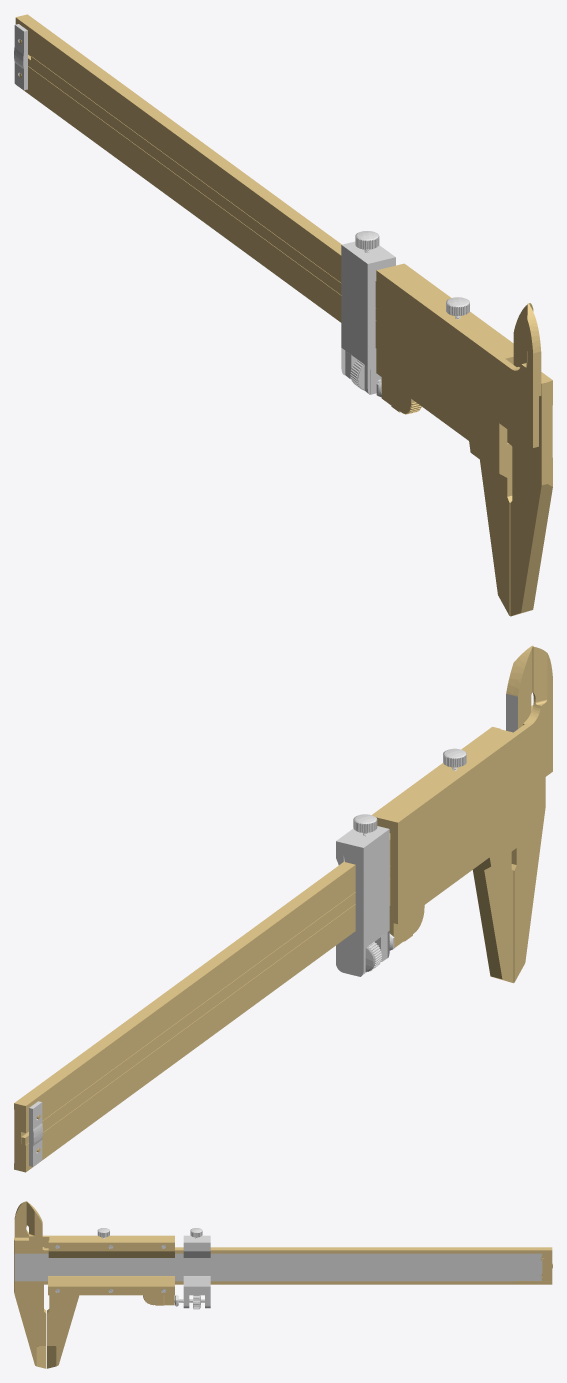
The model's file is vernier calliper2.fbx.
3 renders of one model, top to bottom at view 1: azimuth 30°, elevation 25°; view 2: azimuth 150°, elevation 25°; view 3: azimuth 270°, elevation 25°, orthographic. The views are drawn at different scales.
Visible parts, largest first — view 1: fixed jaw with main scale, movable jaw sliding head with vernier scale, movable jaw sliding head with vernier scale.001, Vernier.009; view 2: movable jaw sliding head with vernier scale, fixed jaw with main scale, movable jaw sliding head with vernier scale.001, Vernier.009; view 3: fixed jaw with main scale, movable jaw sliding head with vernier scale, movable jaw sliding head with vernier scale.001.
Part boxes in pixels (box(x1,y1,x2,y2)): fixed jaw with main scale: box(15, 14, 552, 616); movable jaw sliding head with vernier scale: box(28, 54, 541, 615); movable jaw sliding head with vernier scale.001: box(341, 241, 395, 394); Vernier.009: box(14, 24, 27, 90); movable jaw sliding head with vernier scale: box(21, 646, 552, 1145); fixed jaw with main scale: box(14, 645, 545, 1172); movable jaw sliding head with vernier scale.001: box(336, 826, 389, 976); Vernier.009: box(29, 1101, 42, 1166); fixed jaw with main scale: box(14, 1201, 552, 1368); movable jaw sliding head with vernier scale: box(14, 1201, 552, 1368); movable jaw sliding head with vernier scale.001: box(183, 1235, 210, 1308).
Bounding box in the file's own units: 16.76 × 174 × 508.
